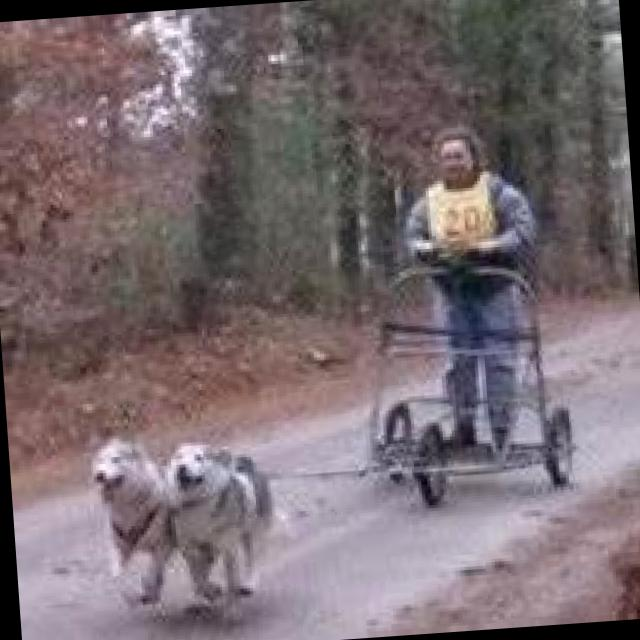dog: (158, 434, 278, 606), (85, 428, 176, 608)
